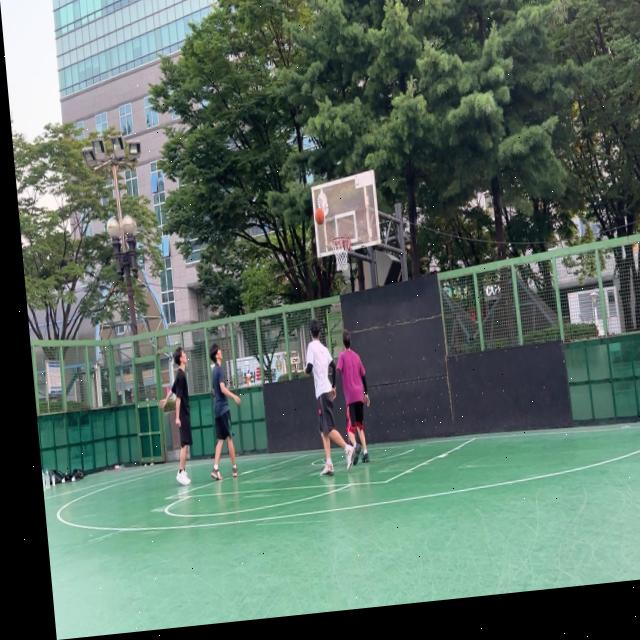basketball: (315, 208, 325, 225)
hoop: (330, 235, 354, 272)
